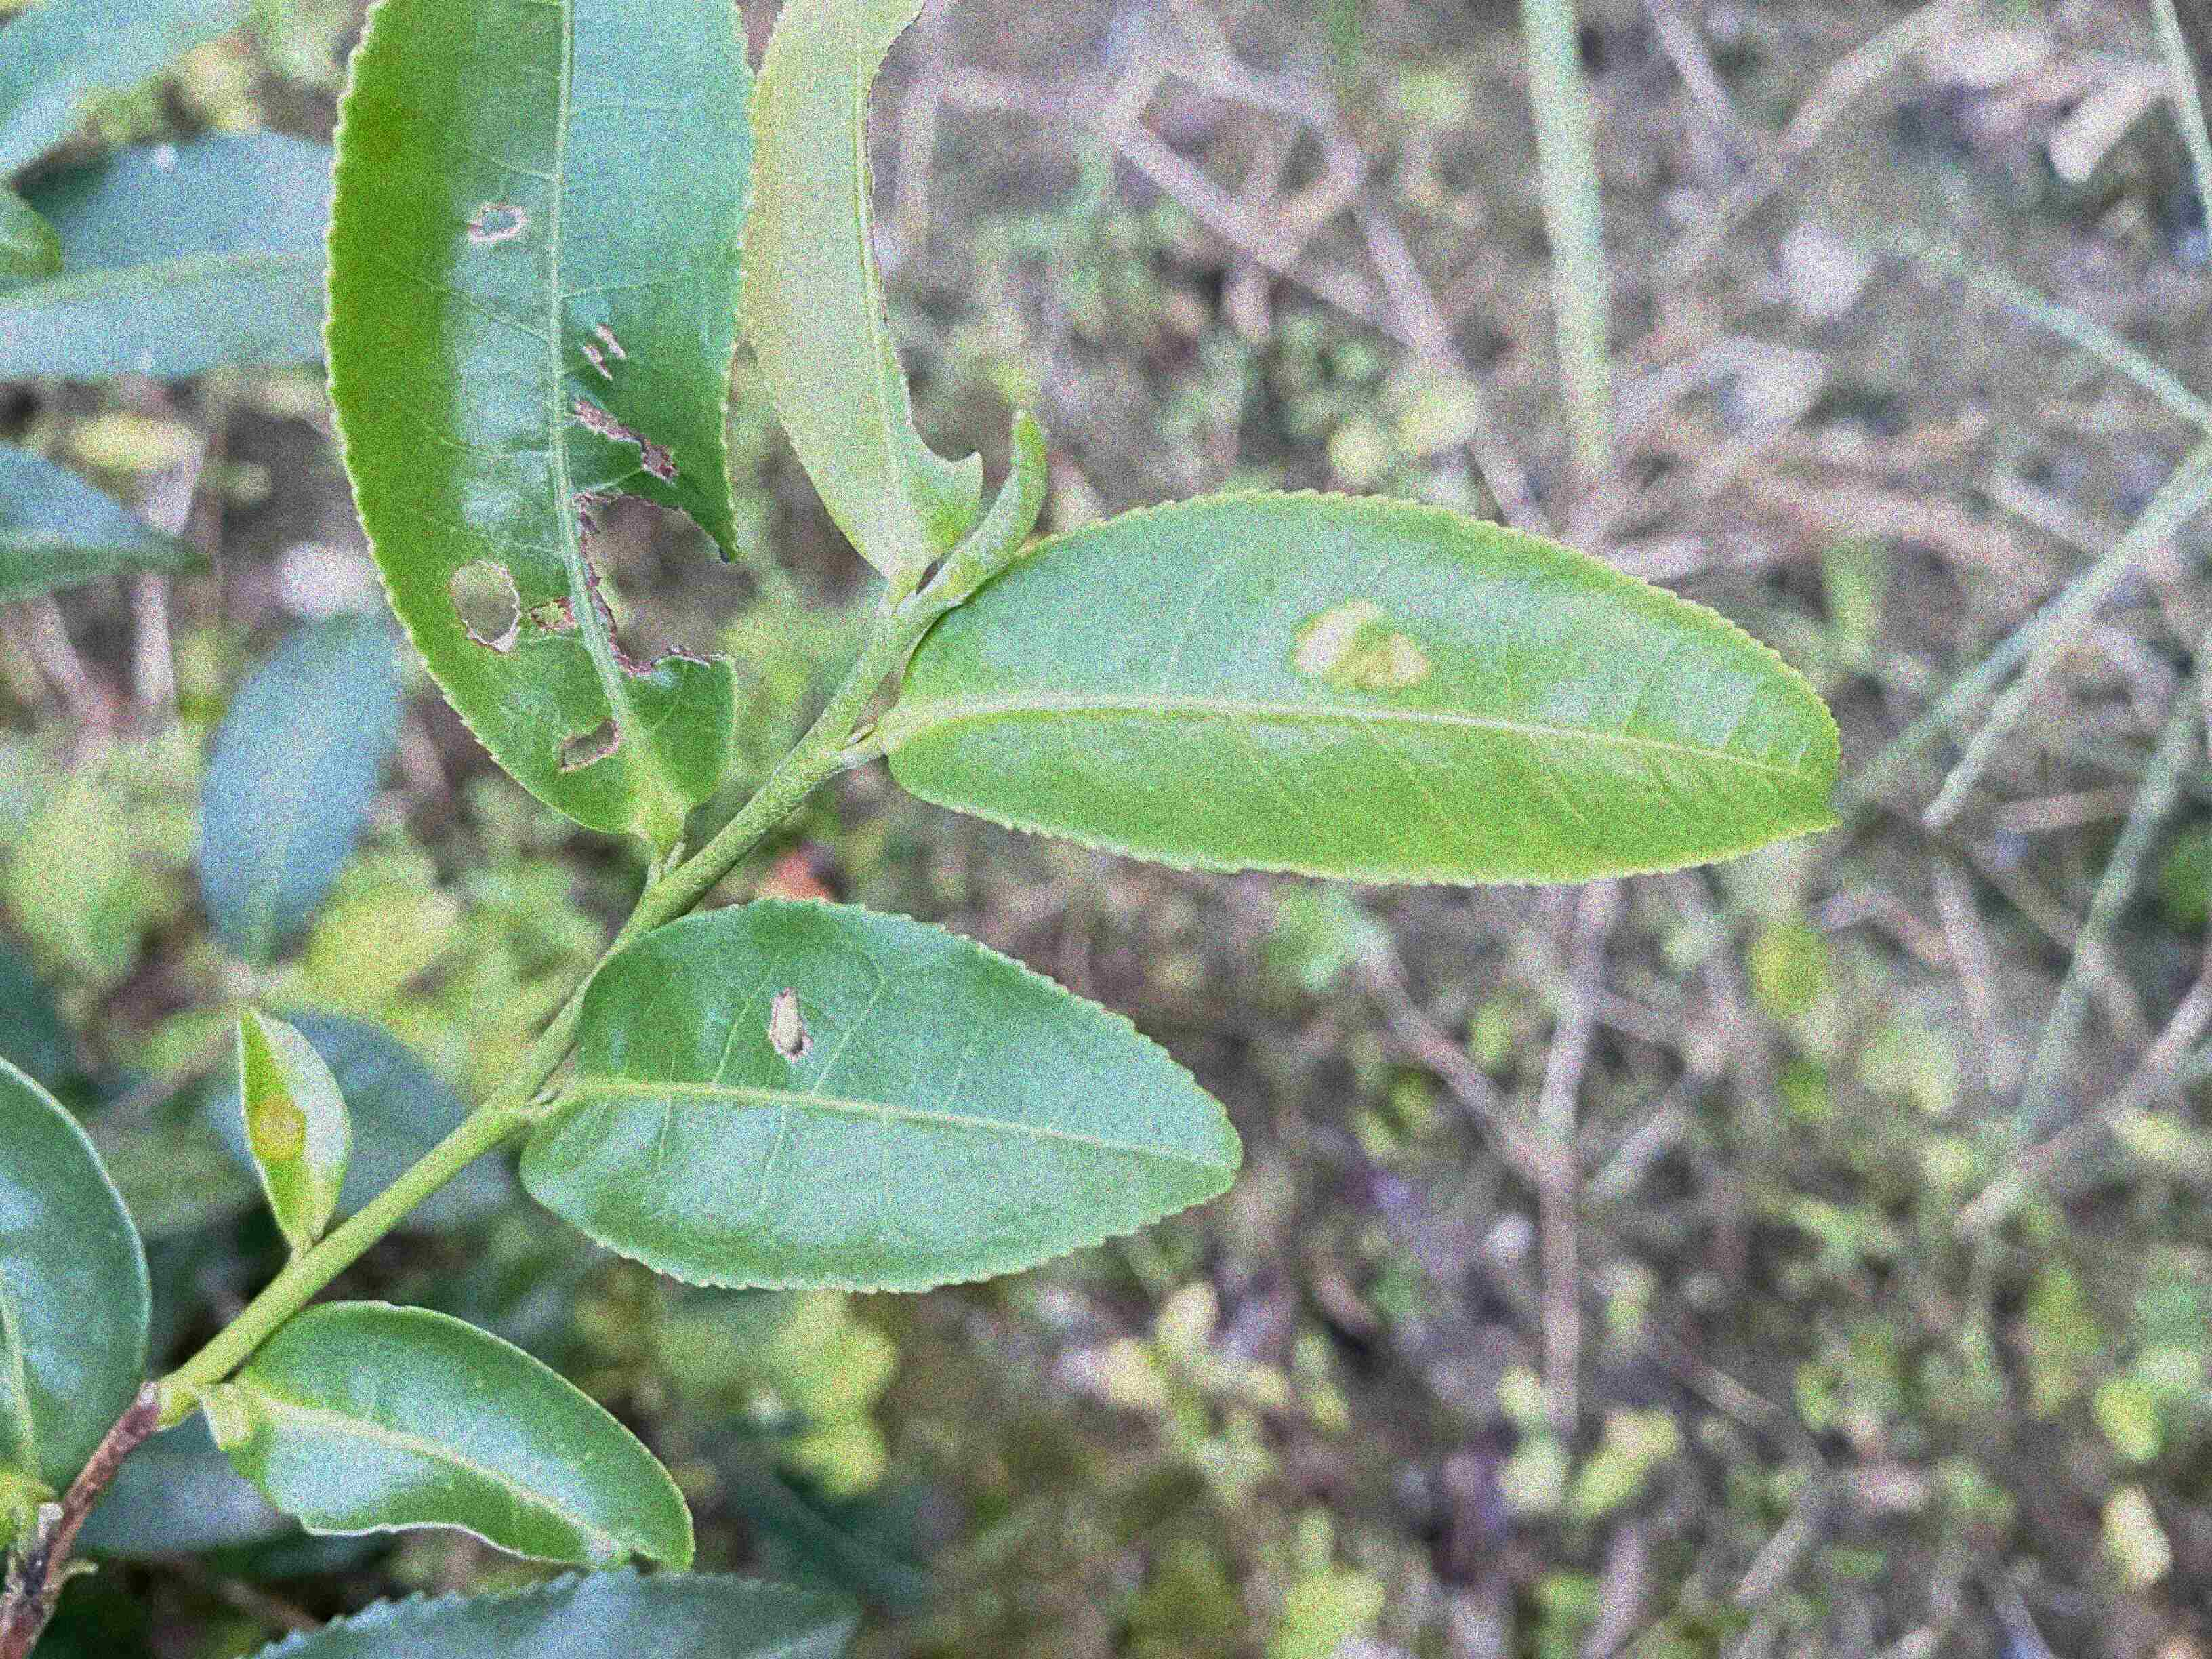chabing_low: (885, 483, 1846, 887), (233, 1000, 355, 1248)
chihuo_high: (319, 7, 758, 835), (740, 3, 984, 582)
chihuo_low: (516, 896, 1240, 1297)
